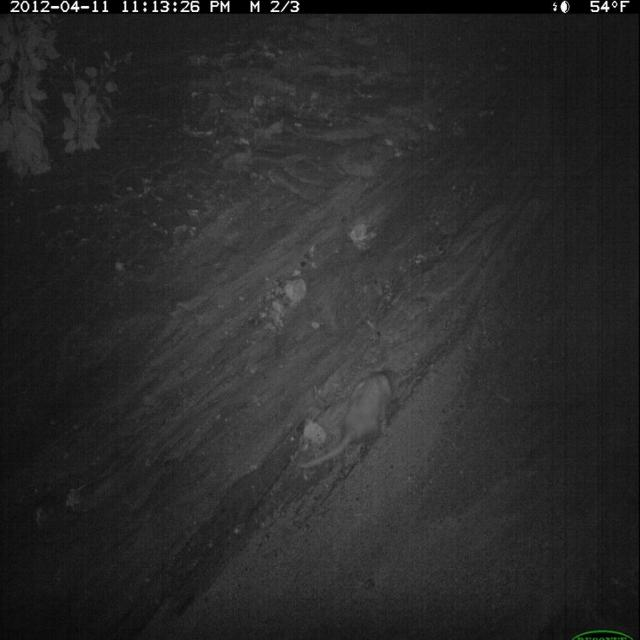opossum: (294, 367, 399, 475)
